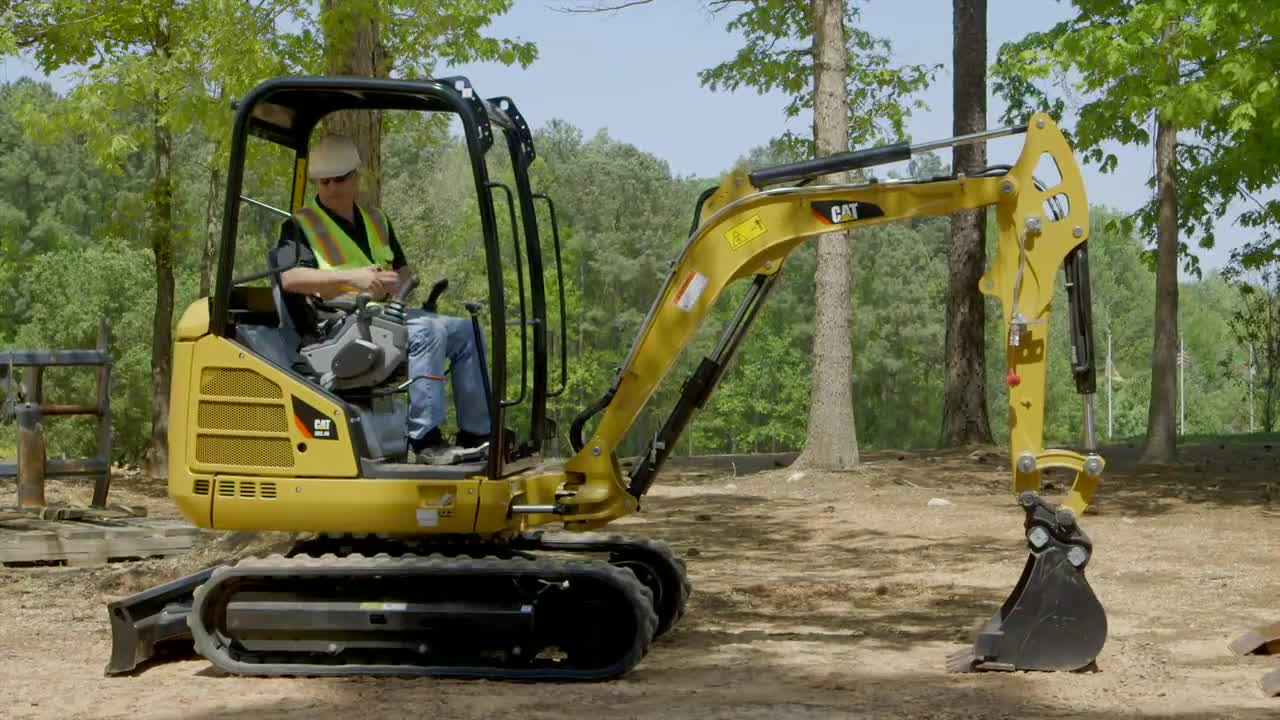attachment-bucket: (947, 498, 1119, 686)
cabin: (168, 70, 569, 525)
forearm: (1001, 109, 1107, 514)
upperarm: (568, 170, 1016, 485)
wheelbase: (173, 523, 706, 684)
